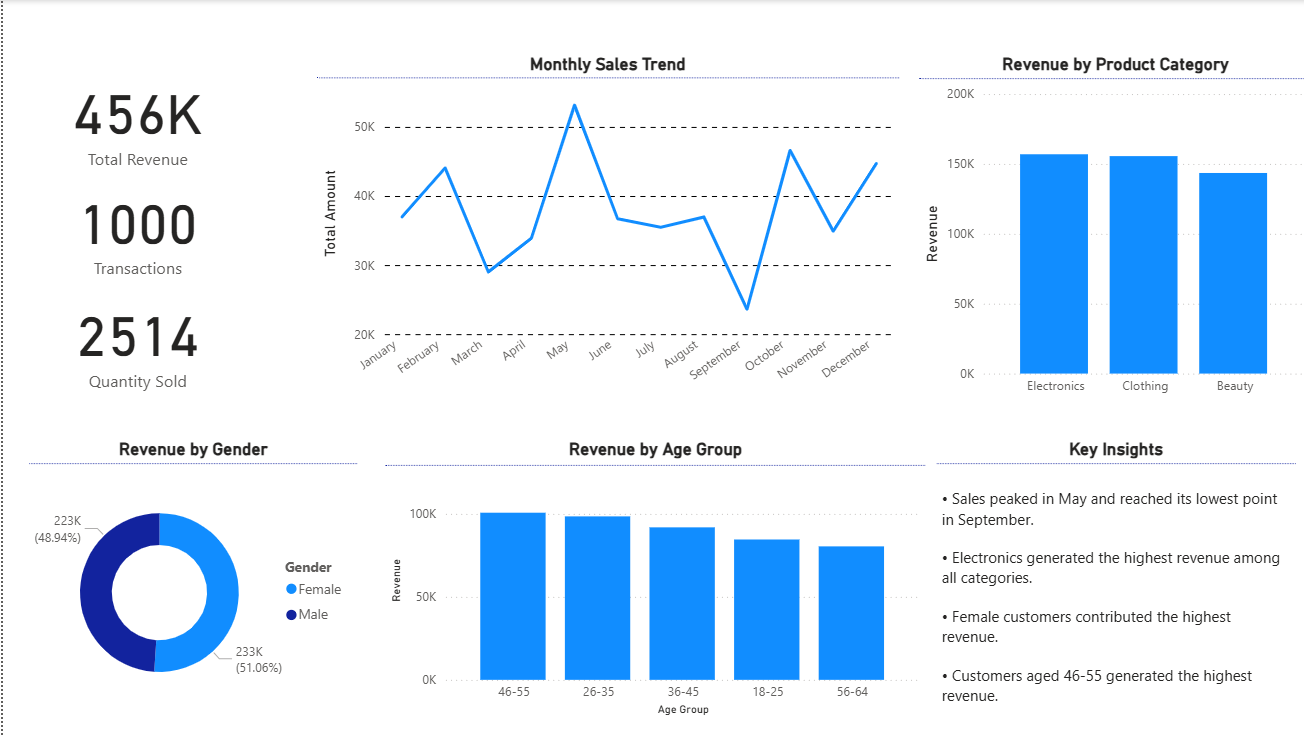

Layout of this report page (visuals, bound fields, positions):
{"tool":"powerbi","page":{"name":"Page 1","canvas":[1280,720],"ordinal":0},"visuals":[{"type":"card","fields":{"Values":["Sum(retail_sales_dataset.Total Amount)"]},"box":[41.2,63.1,181.1,105.7],"z":0},{"type":"card","fields":{"Values":["CountNonNull(retail_sales_dataset.Transaction ID)"]},"box":[41.2,168.8,181.1,109.8],"z":1000},{"type":"card","fields":{"Values":["Sum(retail_sales_dataset.Quantity)"]},"box":[41.2,278.6,181.1,109.8],"z":2000},{"type":"lineChart","title":" Monthly Sales Trend","fields":{"Y":["Sum(retail_sales_dataset.Total Amount)"],"Category":["retail_sales_dataset.Date.Variation.Date Hierarchy.Month"]},"box":[307.4,52.1,569.5,341.7],"z":3000},{"type":"lineStackedColumnComboChart","title":"Revenue by Product Category","fields":{"Category":["retail_sales_dataset.Product Category"],"Y":["Sum(retail_sales_dataset.Total Amount)"]},"box":[896.1,52.1,384.2,341.7],"z":4000},{"type":"donutChart","title":"Revenue by Gender","fields":{"Category":["retail_sales_dataset.Gender"],"Y":["Sum(retail_sales_dataset.Total Amount)"]},"box":[26.1,429.5,321.1,274.4],"z":5000},{"type":"columnChart","title":"Revenue by Age Group","fields":{"Category":["retail_sales_dataset.Age Group"],"Y":["Sum(retail_sales_dataset.Total Amount)"]},"box":[374.6,429.5,528.3,274.4],"z":6000},{"type":"textbox","title":"Key Insights","box":[913.5,429.2,351,271.5],"z":7000}]}

Visuals, with their boxes in screenshot pixels (x1, y1, x2, y2), scaled from the page's 1280x720 canvas onto the 1304x735 screenshot:
card - Sum(retail_sales_dataset.Total Amount): bbox=[42, 64, 226, 172]
card - CountNonNull(retail_sales_dataset.Transaction ID): bbox=[42, 172, 226, 284]
card - Sum(retail_sales_dataset.Quantity): bbox=[42, 284, 226, 396]
" Monthly Sales Trend" lineChart: bbox=[313, 53, 893, 402]
"Revenue by Product Category" lineStackedColumnComboChart: bbox=[913, 53, 1303, 402]
"Revenue by Gender" donutChart: bbox=[27, 438, 354, 719]
"Revenue by Age Group" columnChart: bbox=[382, 438, 920, 719]
"Key Insights" textbox: bbox=[931, 438, 1288, 715]
